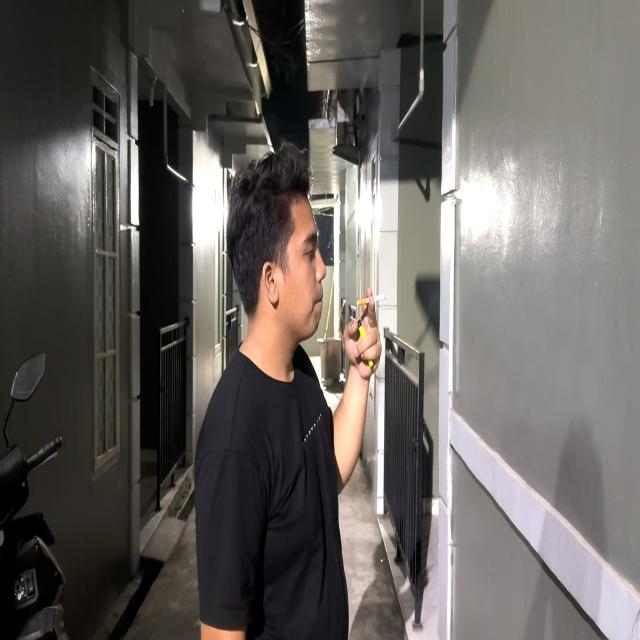cigarette: (357, 294, 387, 305)
smoking: (220, 136, 388, 495)
